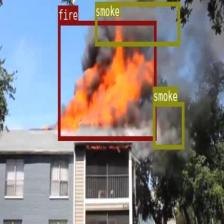fire: (58, 20, 156, 140)
smoke: (95, 2, 180, 46), (152, 102, 184, 148)
